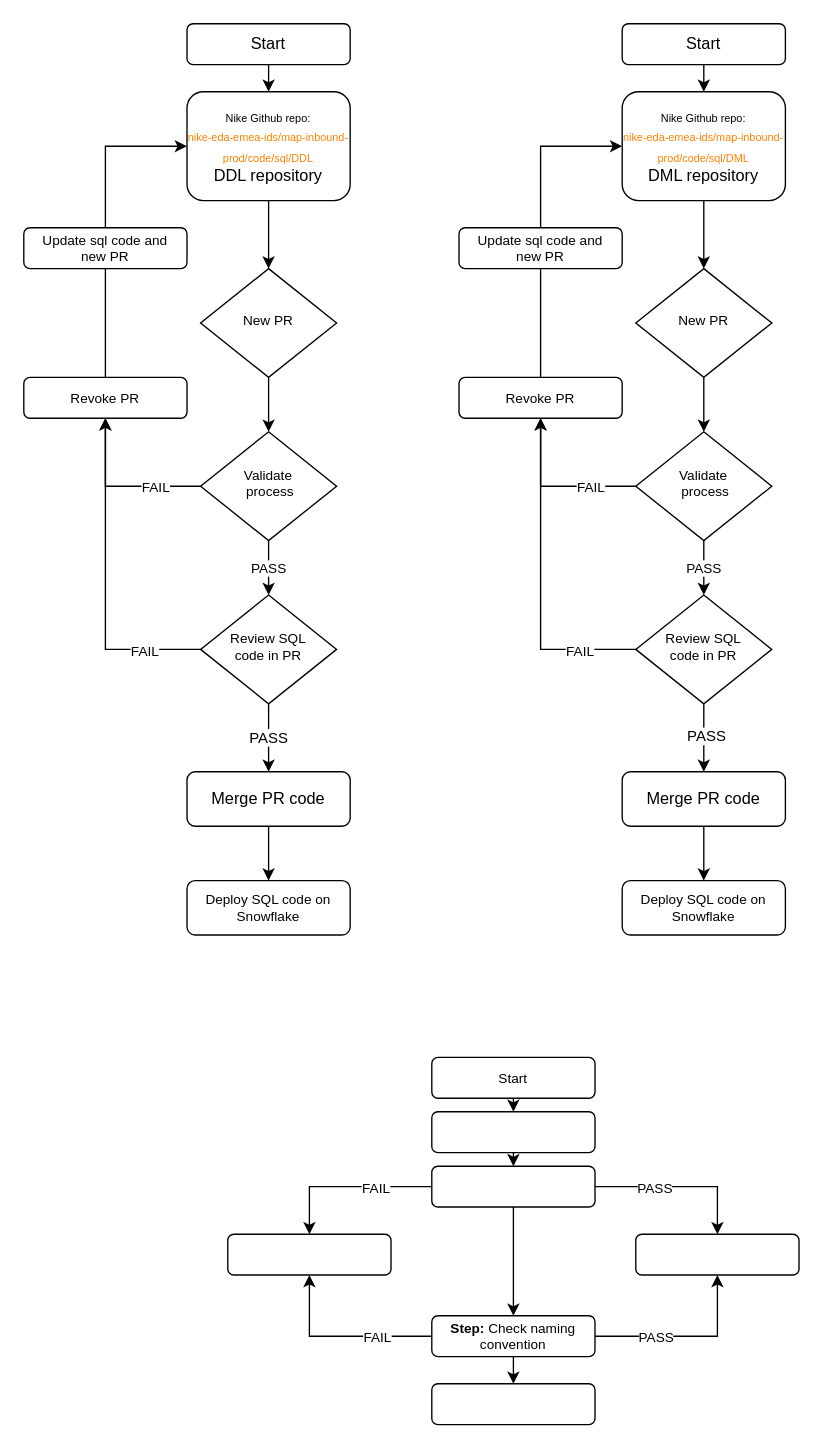
Some shapes in this 823 by 1448 pixel diagram are drawn without their labels. The centre of each missing label's shape, as x and y in pixels:
"Invoke process: FAIL" goes at pixel 308 1254.
"Invoke process: PASS" goes at pixel 716 1254.
"Rollback" goes at pixel 512 1403.
"Step: Check functionality" goes at pixel 512 1186.
"Step: Deploy PR code on SF" goes at pixel 512 1131.
